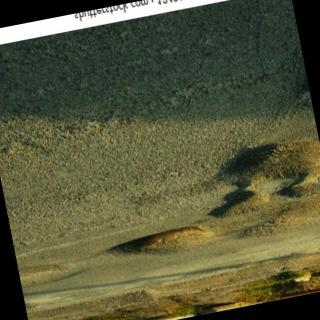pothole: (18, 226, 216, 287), (208, 141, 320, 218)
